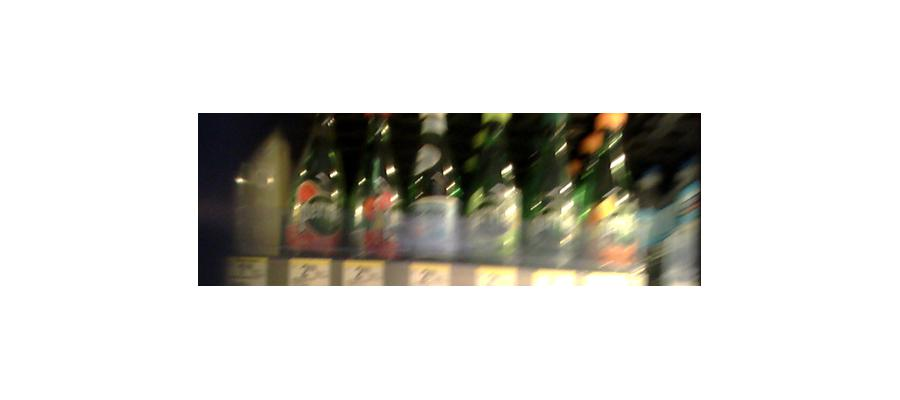bottle: (400, 115, 461, 260), (585, 115, 638, 271), (528, 111, 579, 271), (464, 113, 519, 260), (290, 111, 342, 256), (349, 113, 399, 255), (233, 122, 286, 255)
